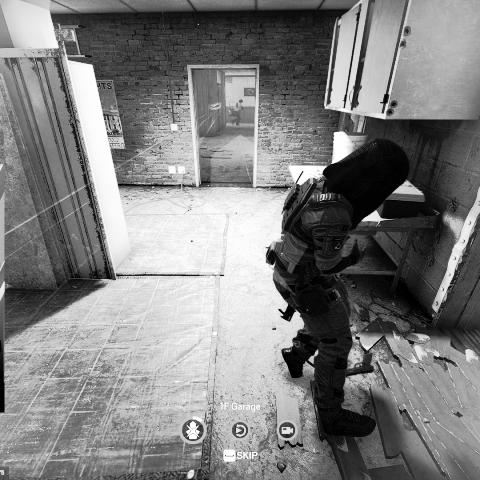Character: (264, 137, 412, 439), (230, 99, 244, 126)
Head: (323, 138, 411, 222), (239, 99, 243, 104)
